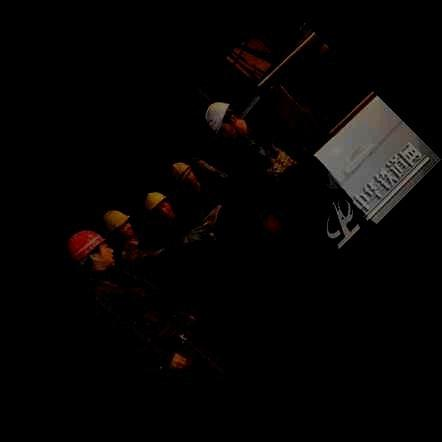helmet: (66, 229, 114, 268), (205, 101, 244, 138), (103, 209, 134, 238), (144, 191, 172, 220), (172, 162, 196, 188)
